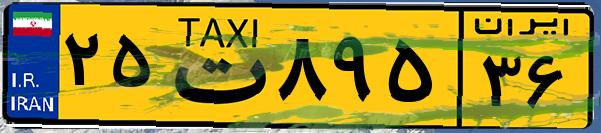2: (57, 26, 110, 100)
3: (475, 38, 525, 113)
5: (385, 28, 445, 110), (110, 28, 158, 98)
6: (525, 38, 570, 115)
8: (270, 28, 330, 110)
9: (330, 28, 385, 110)
ت: (158, 12, 270, 120)
